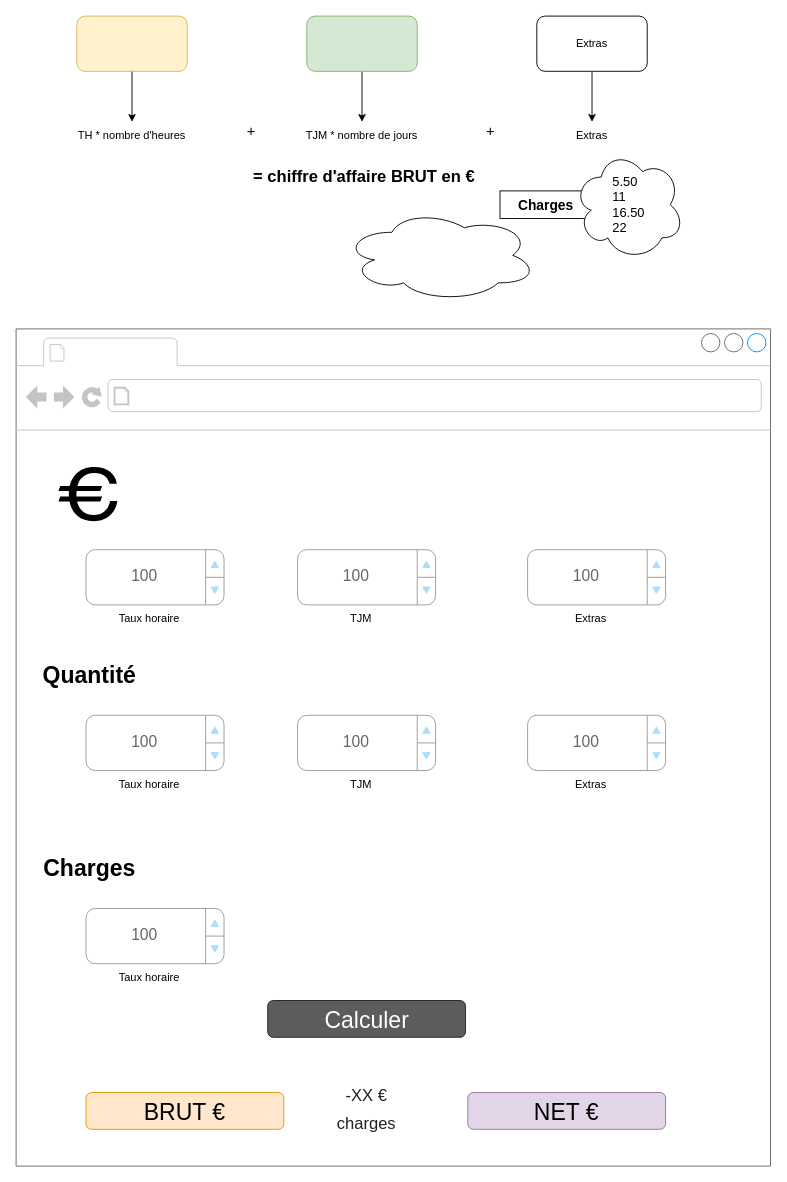
Image size: 787x1182. Some labels were removed from this diagram. Each missing label, with the centre of its shape:
"CA - X% de charges" goes at point 440,254.
"https://www.draw.io" goes at point 250,395.
"Page 1" goes at point 121,351.
"TH : Taux Horaire" goes at point 131,43.
"TJM : Taux Journalier Moyen" goes at point 361,43.
